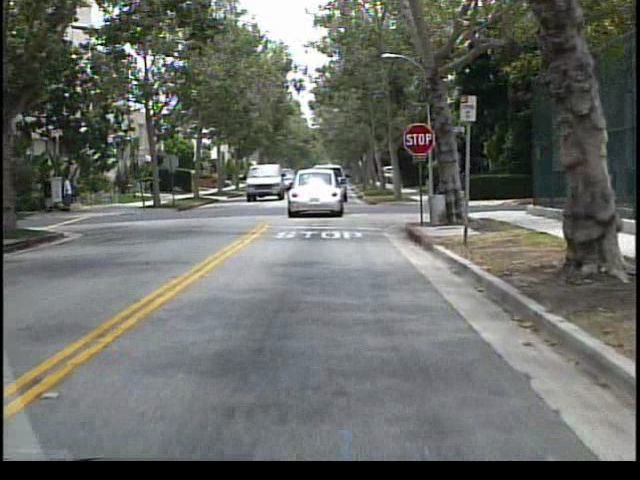person: (62, 168, 77, 214), (44, 171, 58, 215)
